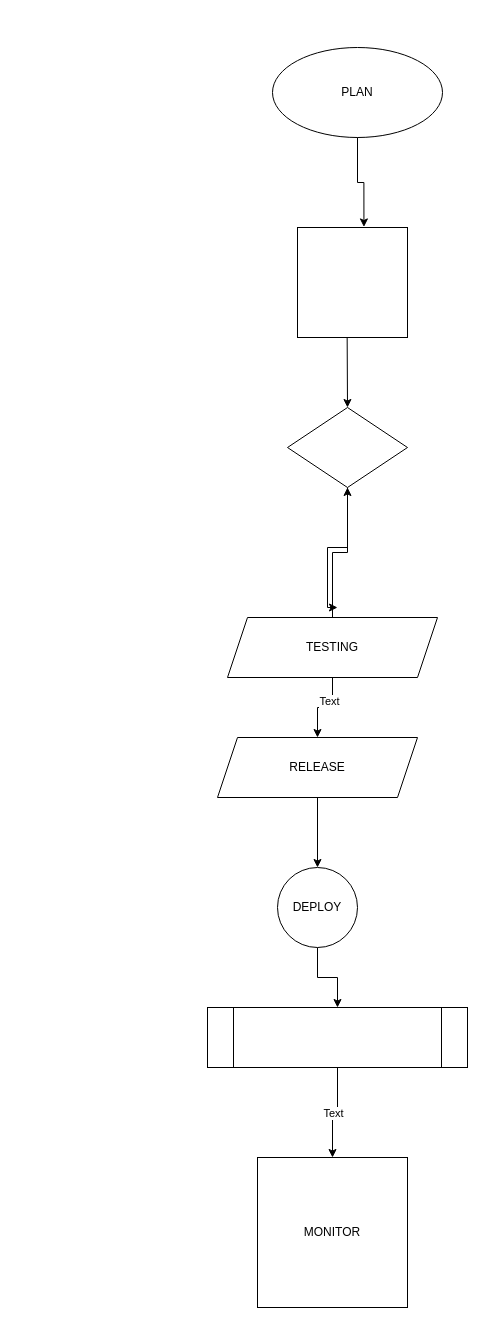
The diagram is 485 pixels wide and 1325 high, and some of its shapes have lost their labels. Each missing label, with the box of its shape:
BUILD: (286, 406, 408, 488)
DEVELOP: (296, 226, 408, 338)
OPERATS: (206, 1006, 468, 1068)
